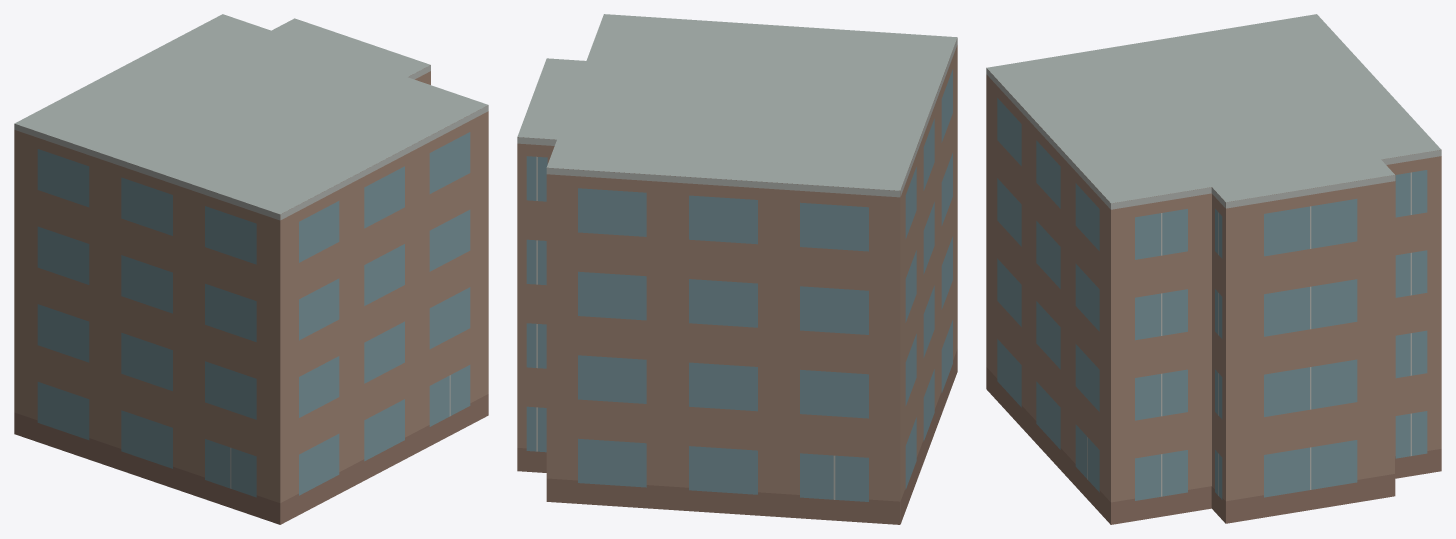
File: survey-upis-32863992.glb
3 views of the same model, side by side, from view 1: azimuth 30°, elevation 25°; view 2: azimuth 150°, elevation 25°; view 3: azimuth 270°, elevation 25° (orthographic). The views are drawn at different scales.
Parts seen in each view (by area): view 1: survey-upis-32863992.tmp; view 2: survey-upis-32863992.tmp; view 3: survey-upis-32863992.tmp.
Boxes of the visible parts, x1,y1,x2,y2 form: survey-upis-32863992.tmp: (14,14,488,524); survey-upis-32863992.tmp: (517,14,957,524); survey-upis-32863992.tmp: (986,14,1441,524).
Bounding box in the file's own units: 15.64 × 12.37 × 15.88.
